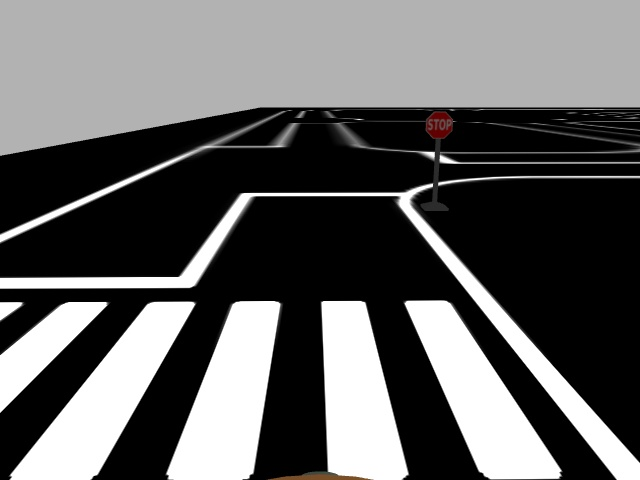stop: (423, 110, 455, 141)
